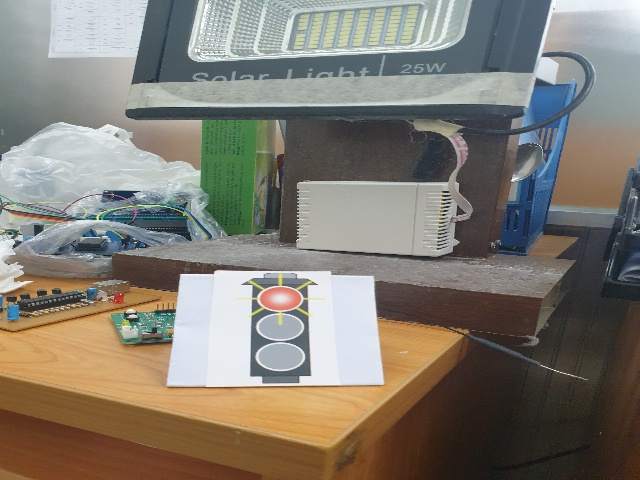Red Light: (228, 273, 330, 385)
